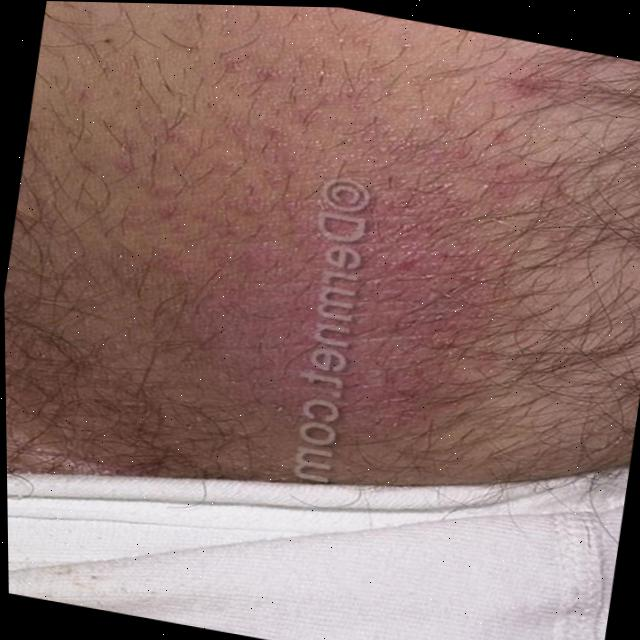Eczema: (156, 102, 514, 485)
